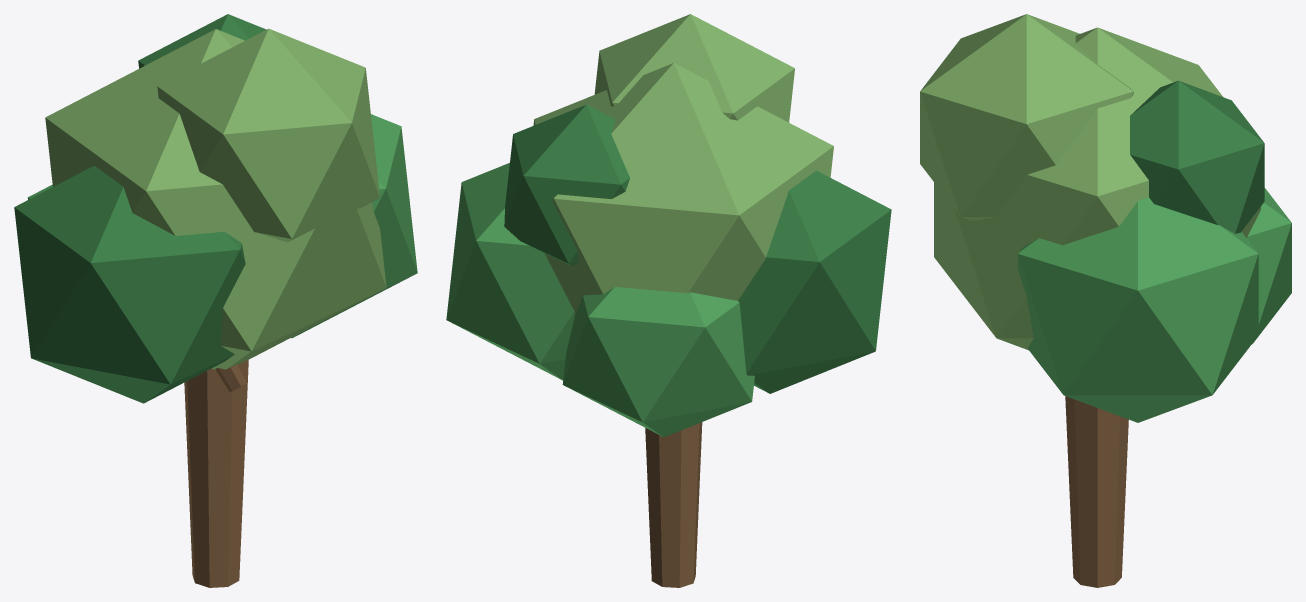
Rendered from t_tree_c.gltf.
3 renders of one model, left to right at view 1: azimuth 30°, elevation 25°; view 2: azimuth 150°, elevation 25°; view 3: azimuth 270°, elevation 25°, orthographic. The views are drawn at different scales.
Visible parts, largest first — view 1: t_tree_c; view 2: t_tree_c; view 3: t_tree_c.
Boxes of the visible parts, box(x1,y1,x2,y2) form: t_tree_c: box(14, 14, 417, 587); t_tree_c: box(446, 14, 891, 587); t_tree_c: box(920, 14, 1291, 587).
Size of the model in its own units: 1.97 by 2.65 by 1.56.
Materials: 1 (1 with a texture image).
